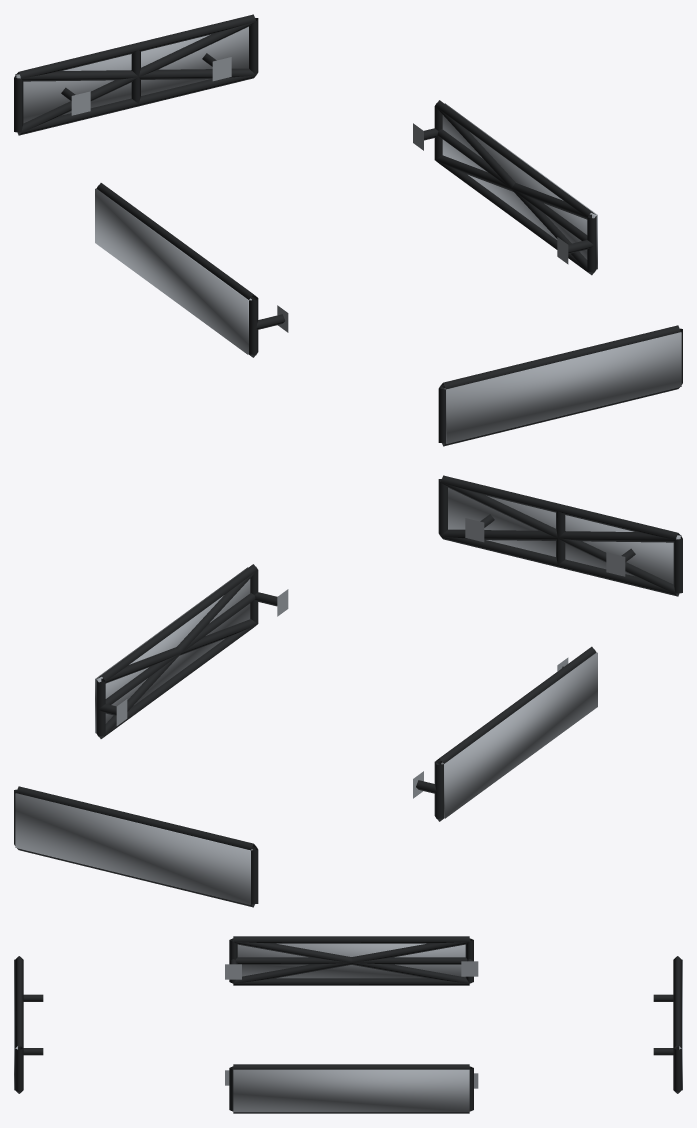
File: ridgeway_casulo_protecao.glb
3 views of the same model, one above another, from view 1: azimuth 30°, elevation 25°; view 2: azimuth 150°, elevation 25°; view 3: azimuth 270°, elevation 25° (orthographic). The views are drawn at different scales.
Parts seen in each view (by area): view 1: Protection_front_Level3_Details, Protection_left_Level3_Details, Protection_rear_Level1_Details, Protection_rear_Level3_Details, Protection_right_Level1_Details, Protection_rear_Level2_Details, Protection_right_Level2_Details, Protection_right_Level3_Details, Protection_front_Level1_Details, Protection_left_Level1_Details; view 2: Protection_rear_Level3_Details, Protection_left_Level3_Details, Protection_front_Level1_Details, Protection_front_Level3_Details, Protection_right_Level1_Details, Protection_front_Level2_Details, Protection_right_Level2_Details, Protection_right_Level3_Details, Protection_rear_Level1_Details, Protection_left_Level1_Details; view 3: Protection_right_Level3_Details, Protection_left_Level2_Details, Protection_left_Level1_Details, Protection_left_Level3_Details, Protection_right_Level1_Details, Protection_rear_Level1_Details, Protection_front_Level1_Details.
Boxes of the visible parts, box(x1,y1,x2,y2) form: Protection_front_Level3_Details: box(444, 332, 681, 443); Protection_left_Level3_Details: box(95, 188, 251, 354); Protection_rear_Level1_Details: box(14, 14, 258, 135); Protection_rear_Level3_Details: box(15, 26, 248, 123); Protection_right_Level1_Details: box(413, 100, 596, 275); Protection_rear_Level2_Details: box(16, 21, 255, 134); Protection_right_Level2_Details: box(435, 107, 595, 274); Protection_right_Level3_Details: box(442, 103, 597, 269); Protection_front_Level1_Details: box(438, 325, 682, 446); Protection_left_Level1_Details: box(96, 183, 288, 357); Protection_rear_Level3_Details: box(15, 793, 252, 904); Protection_left_Level3_Details: box(441, 652, 597, 818); Protection_front_Level1_Details: box(438, 475, 682, 596); Protection_front_Level3_Details: box(448, 487, 681, 584); Protection_right_Level1_Details: box(96, 564, 288, 738); Protection_front_Level2_Details: box(441, 482, 680, 595); Protection_right_Level2_Details: box(97, 570, 257, 738); Protection_right_Level3_Details: box(95, 567, 250, 733); Protection_rear_Level1_Details: box(14, 786, 258, 907); Protection_left_Level1_Details: box(413, 646, 596, 821); Protection_right_Level3_Details: box(233, 1069, 469, 1112); Protection_left_Level2_Details: box(233, 938, 470, 983); Protection_left_Level1_Details: box(225, 936, 478, 985); Protection_left_Level3_Details: box(237, 943, 465, 978); Protection_right_Level1_Details: box(225, 1064, 478, 1113); Protection_rear_Level1_Details: box(653, 956, 681, 1093); Protection_front_Level1_Details: box(15, 956, 43, 1093).
Size of the model in its own units: 2.03 by 0.354 by 4.33.
1 material, 1 textured.
